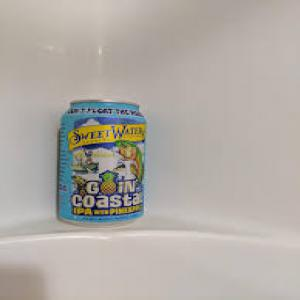Can: (54, 98, 147, 228)
